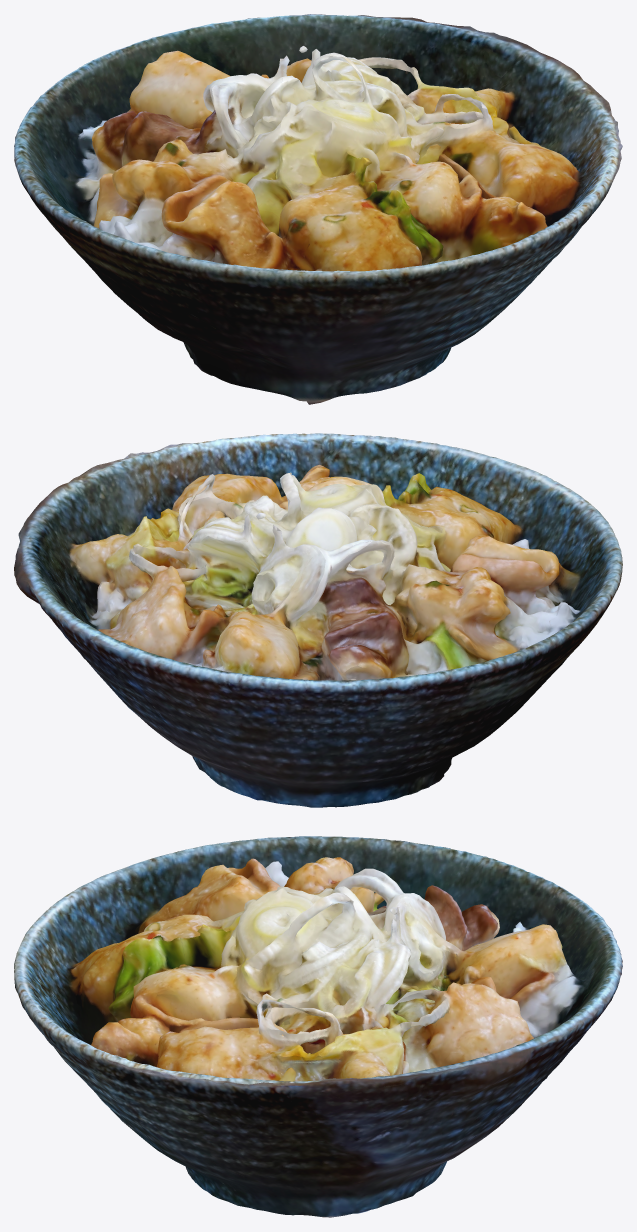
File: donburi.glb
3 views of the same model, one above another, from view 1: azimuth 30°, elevation 25°; view 2: azimuth 150°, elevation 25°; view 3: azimuth 270°, elevation 25° (orthographic).
Visible parts, largest first — view 1: Object_2; view 2: Object_2; view 3: Object_2.
Boxes of the visible parts, x1,y1,x2,y2 form: Object_2: (14,14,622,404); Object_2: (14,433,622,807); Object_2: (14,836,622,1217).
Bounding box in the file's own units: 1.13 × 0.571 × 1.13.
Materials: 1 (1 with a texture image).
